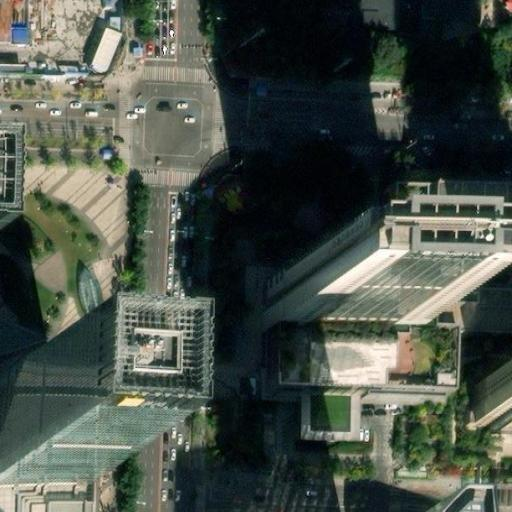building: (373, 177, 512, 282), (270, 318, 466, 387), (0, 398, 104, 495), (271, 261, 423, 321), (297, 390, 356, 438), (87, 17, 125, 74), (471, 380, 512, 423), (347, 0, 402, 29), (501, 0, 512, 18)
